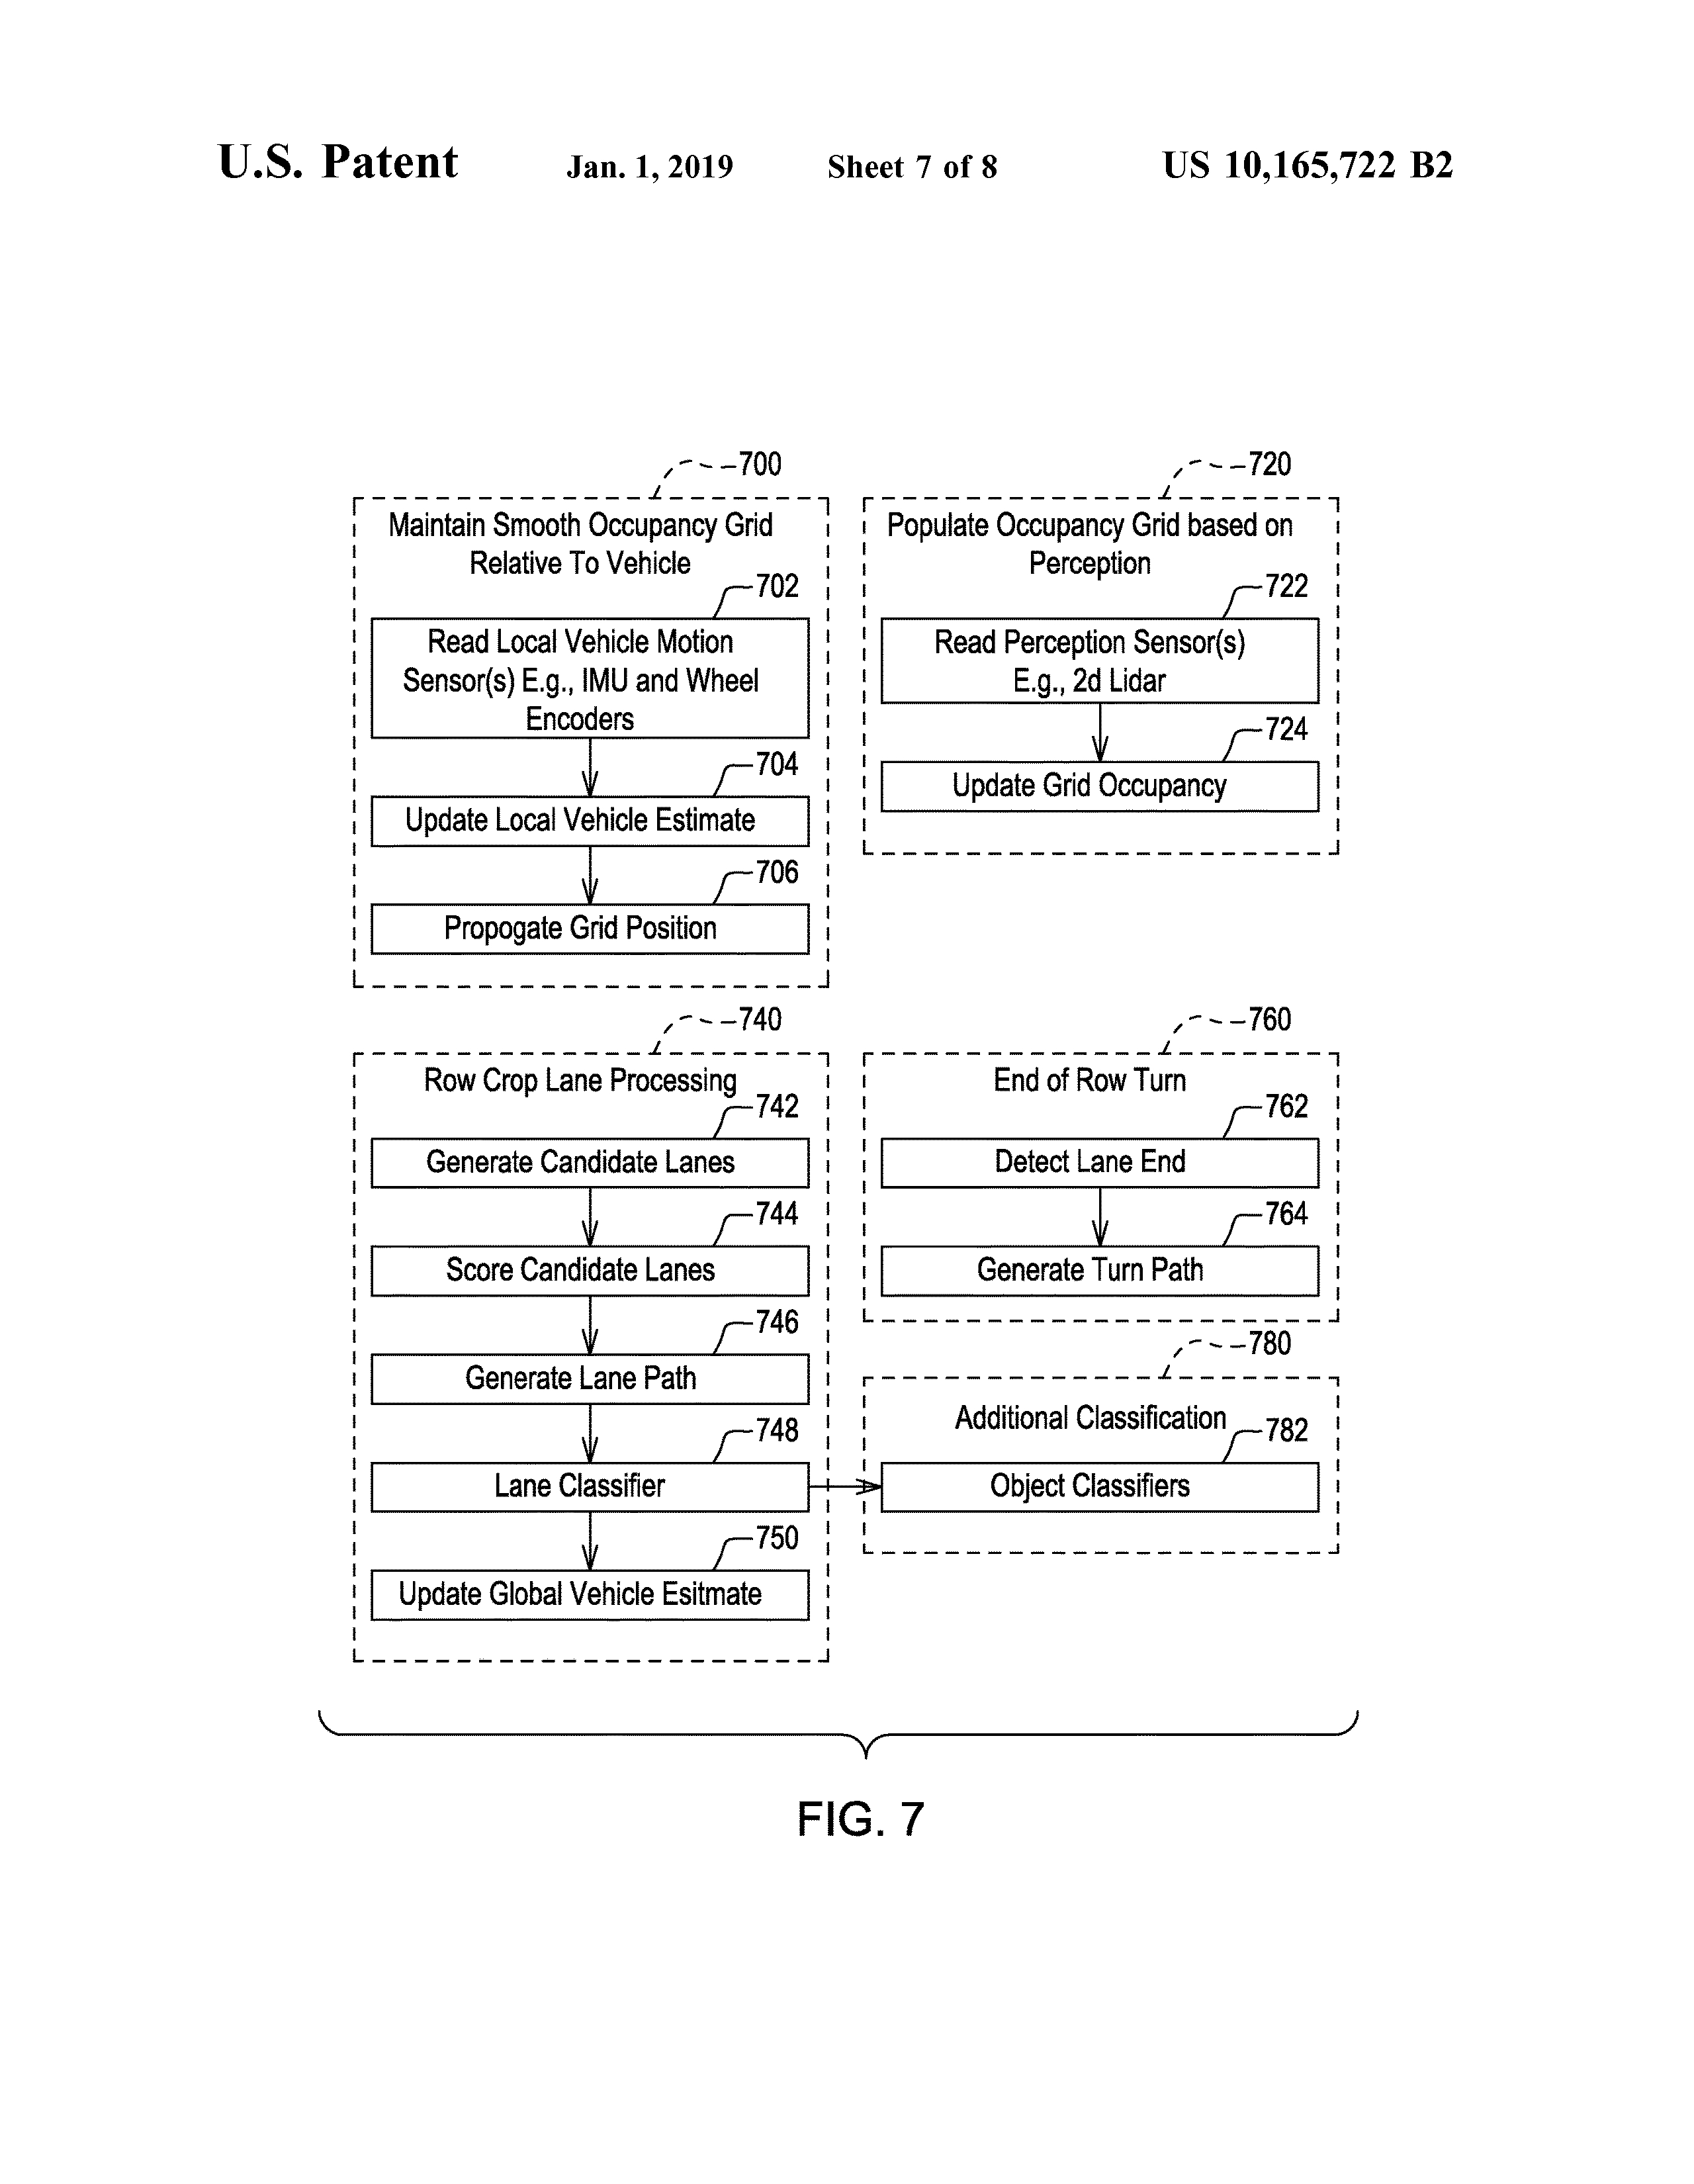patent image: (313, 354, 1400, 1870)
